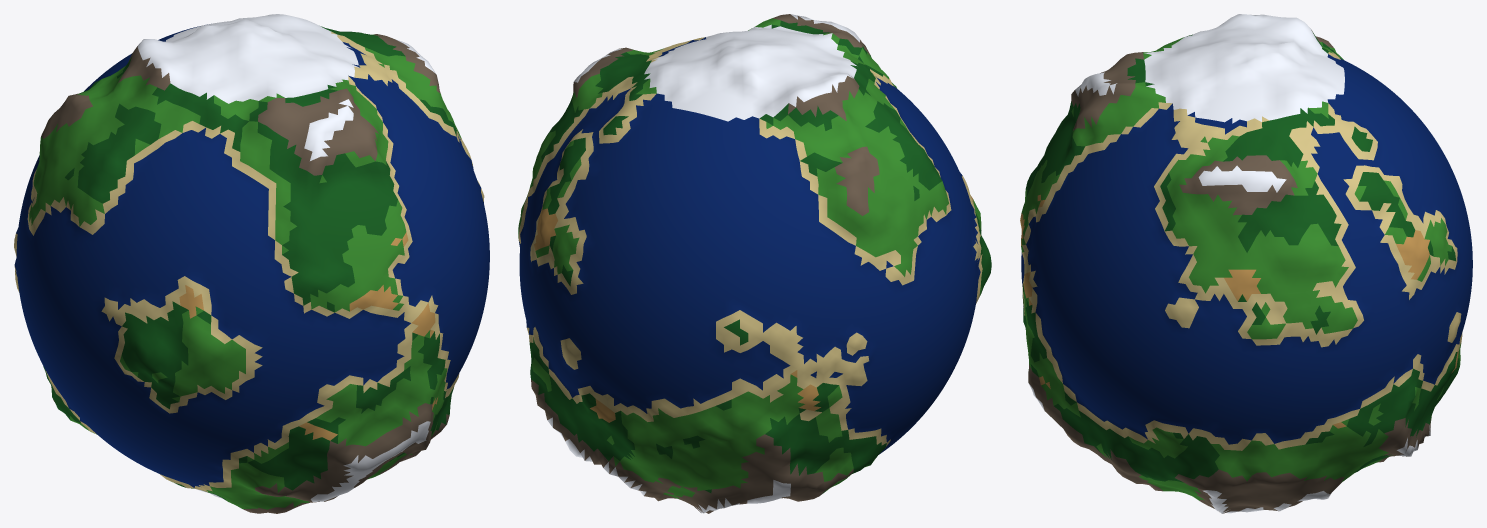
Rendered from Tierra.obj.
3 renders of one model, left to right at view 1: azimuth 30°, elevation 25°; view 2: azimuth 150°, elevation 25°; view 3: azimuth 270°, elevation 25°, orthographic. The views are drawn at different scales.
Visible parts, largest first — view 1: Planeta_Tierra; view 2: Planeta_Tierra; view 3: Planeta_Tierra.
Part boxes in pixels (box(x1,y1,x2,y2)): Planeta_Tierra: box(14, 14, 489, 513); Planeta_Tierra: box(518, 14, 991, 513); Planeta_Tierra: box(1020, 14, 1472, 513).
Size of the model in its own units: 11.04 by 11.47 by 11.03.
